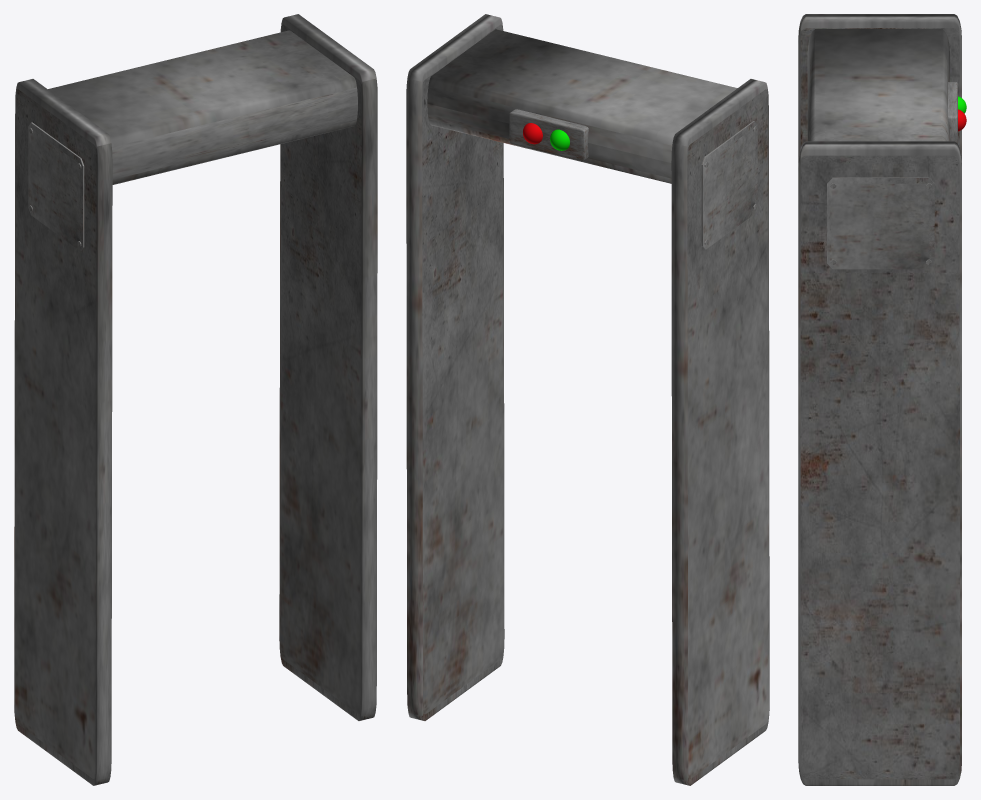
File: MetalDetector (FBX) 1K.fbx
3 views of the same model, side by side, from view 1: azimuth 30°, elevation 25°; view 2: azimuth 150°, elevation 25°; view 3: azimuth 270°, elevation 25° (orthographic).
Parts seen in each view (by area): view 1: Base, ScannerMonitorLuke.001; view 2: Base, ScannerMonitorLuke.001, Panel; view 3: Base, ScannerMonitorLuke, Panel.
Boxes of the visible parts, left/top/right/bottom form: Base: left=14, top=14, right=377, bottom=785; ScannerMonitorLuke.001: left=28, top=122, right=84, bottom=251; Base: left=406, top=14, right=769, bottom=785; ScannerMonitorLuke.001: left=701, top=121, right=757, bottom=249; Panel: left=509, top=109, right=588, bottom=160; Base: left=798, top=14, right=961, bottom=785; ScannerMonitorLuke: left=827, top=177, right=934, bottom=269; Panel: left=948, top=82, right=957, bottom=143.
Bounding box in the file's own units: 113 × 245 × 58.55.
Materials: 4 (2 with a texture image).
